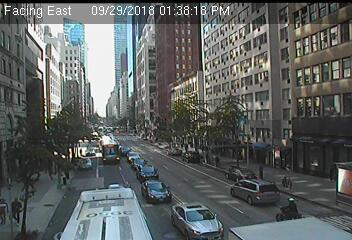car: (59, 188, 149, 240), (170, 202, 223, 240), (230, 179, 279, 206), (141, 180, 170, 204), (225, 167, 256, 183), (102, 141, 119, 164), (136, 164, 157, 182), (182, 151, 198, 163), (131, 157, 146, 169), (127, 151, 142, 163), (80, 158, 92, 170), (165, 148, 181, 157), (120, 146, 132, 157), (85, 149, 94, 156)
